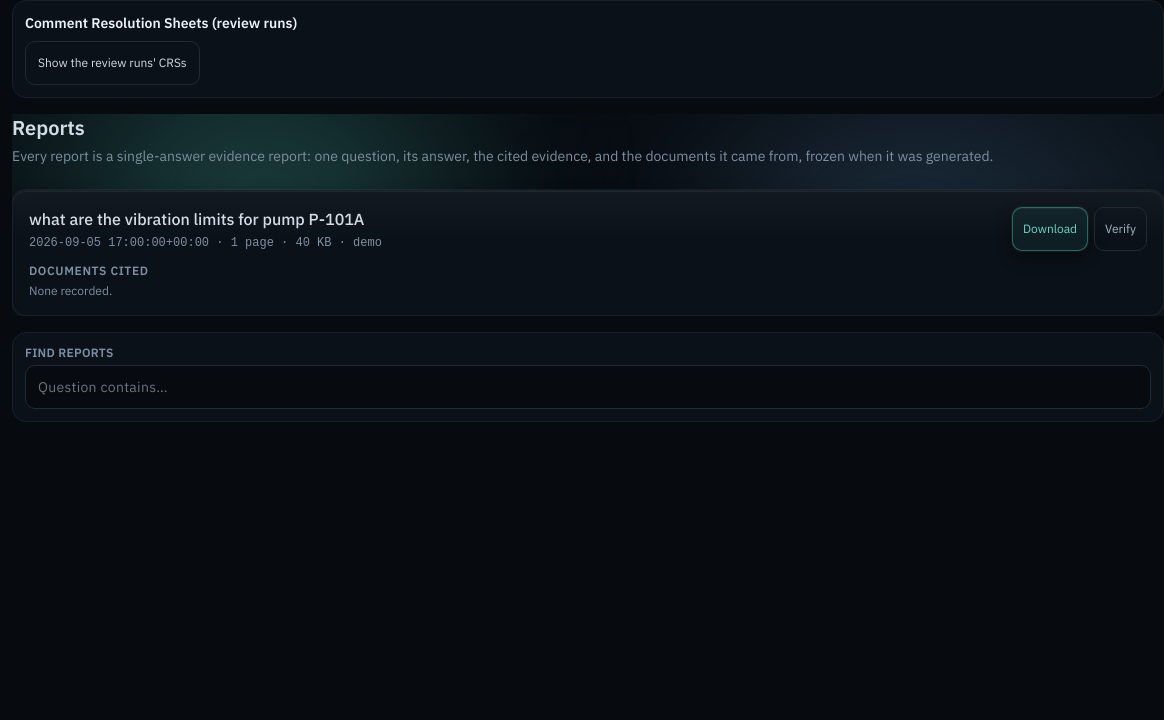
Test: report download: failure produces a message and no file › 401 tells the reader they are not signed in
Click the button "Download": (1050, 229) [1012, 207, 1088, 251]
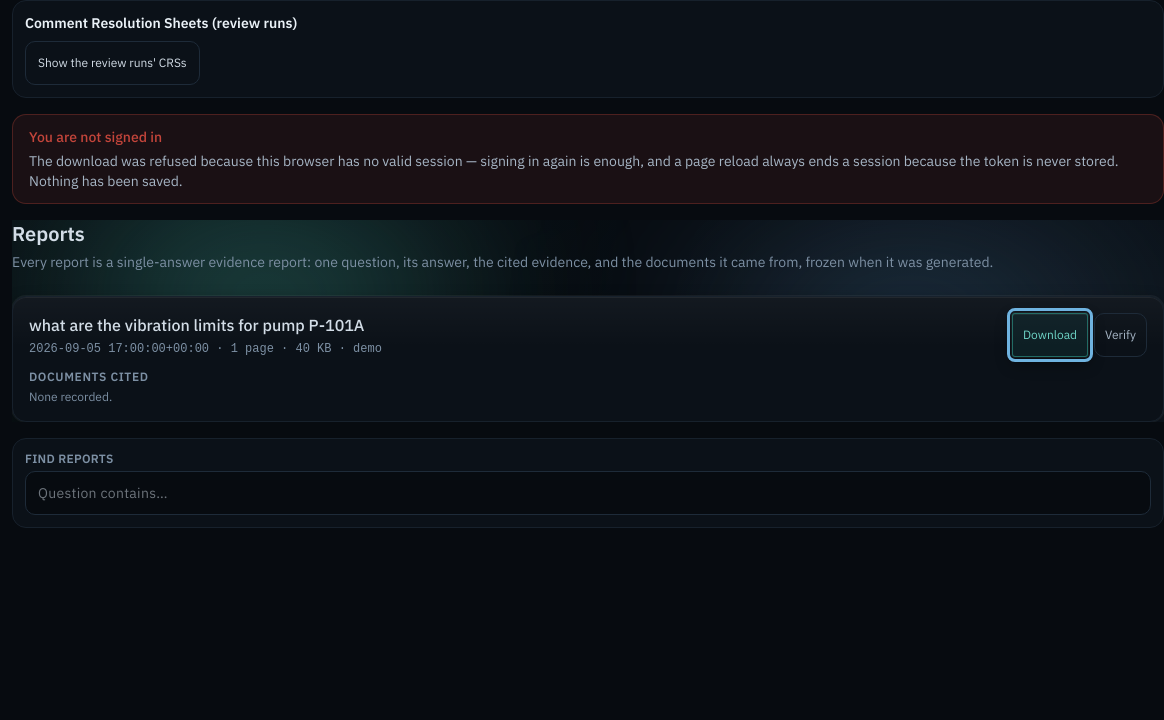
Result: the message shows "You are not signed in" at [29, 128, 162, 146]
